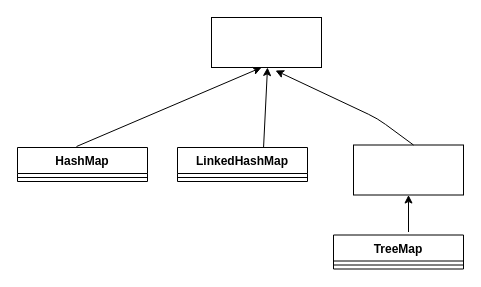
This 481x287 diagram has some shape labels left out. The shapes that lost their labels are listed below. From the top down, each one's centre as x and y in pixels, then its label:
the point at 266,42: «interface» Map
the point at 408,169: «interface» SortedMap
